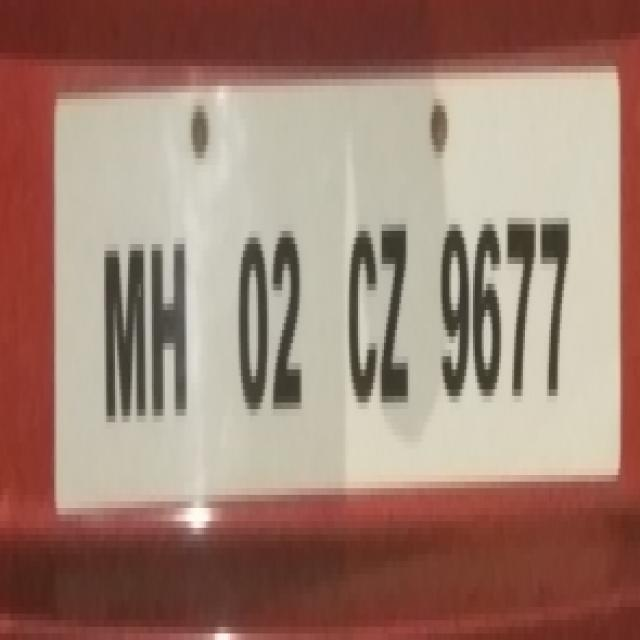0: (231, 226, 272, 424)
6: (473, 212, 506, 424)
7: (506, 204, 539, 403), (537, 210, 571, 401)
9: (100, 228, 148, 436), (436, 212, 472, 403)
C: (342, 216, 382, 407)
H: (146, 233, 193, 424)
Z: (378, 210, 413, 410)
